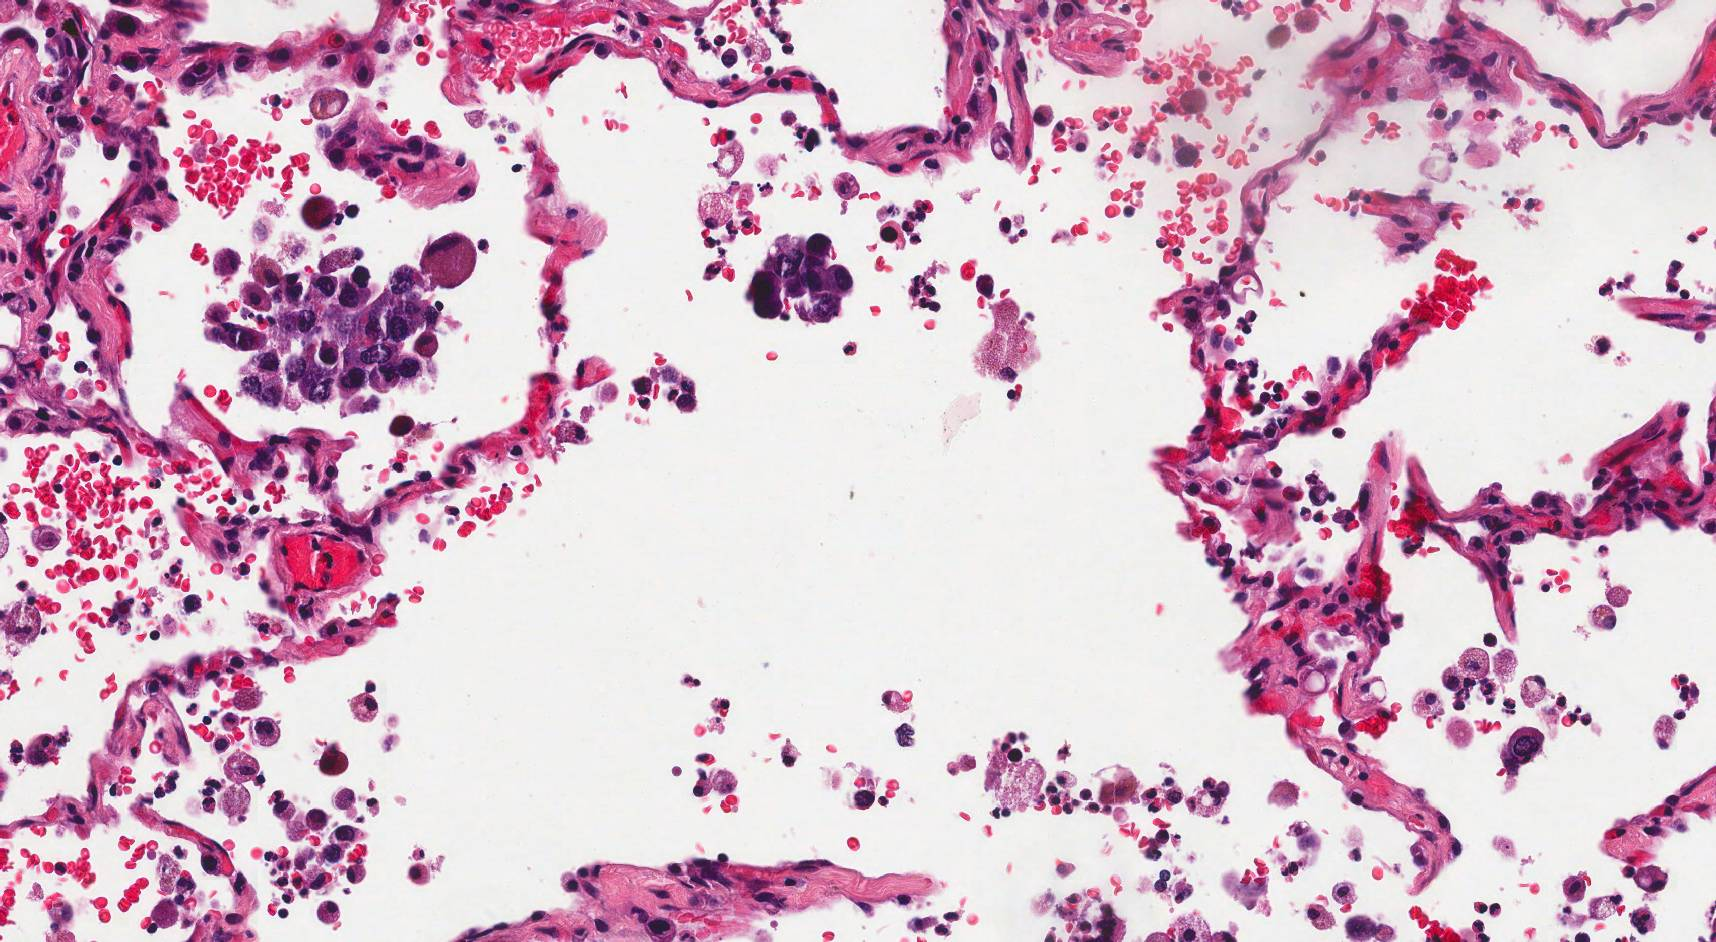stas: (212, 260, 436, 410), (746, 235, 853, 325)
